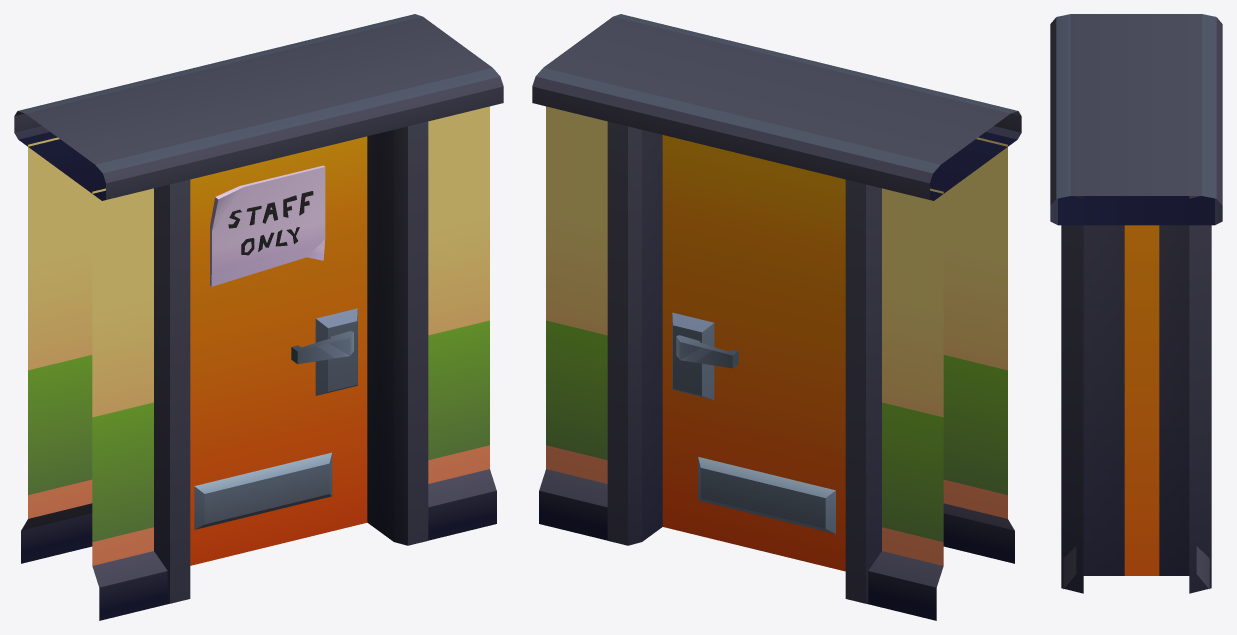
File: door_a.fbx
3 renders of one model, left to right at view 1: azimuth 30°, elevation 25°; view 2: azimuth 150°, elevation 25°; view 3: azimuth 270°, elevation 25°, orthographic. The views are drawn at different scales.
Parts seen in each view (by area): view 1: door_generic_frame2, door_generic2; view 2: door_generic_frame2, door_generic2; view 3: door_generic_frame2, door_generic2.
Part boxes in pixels (x1,y1,x2,y2): door_generic_frame2: (14,14,503,620); door_generic2: (190,136,367,565); door_generic_frame2: (532,14,1021,620); door_generic2: (662,135,845,571); door_generic_frame2: (1050,14,1222,593); door_generic2: (1124,225,1159,575).
Bounding box in the file's own units: 184 × 200 × 73.48.
